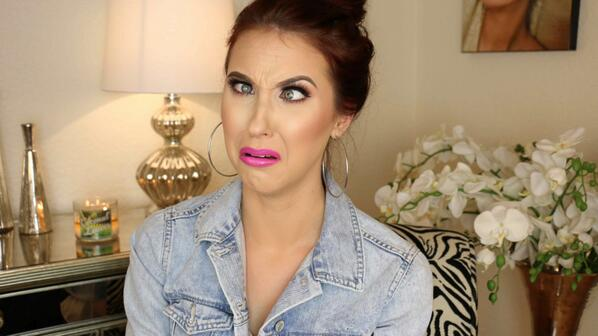confused: (212, 46, 338, 202)
